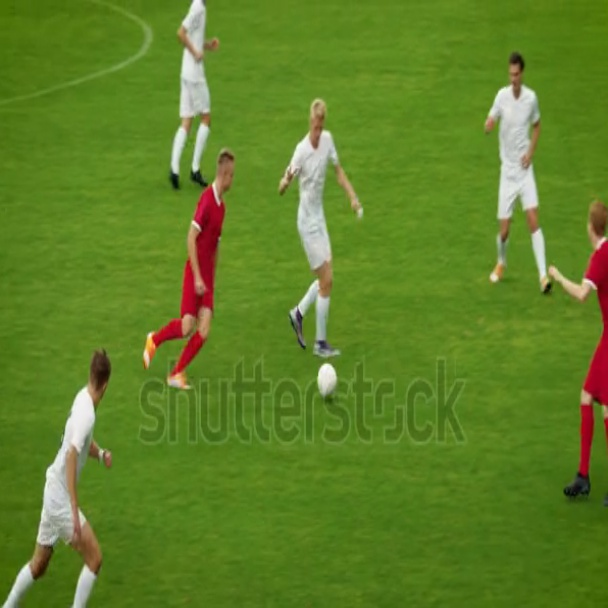ball: (312, 359, 342, 404)
